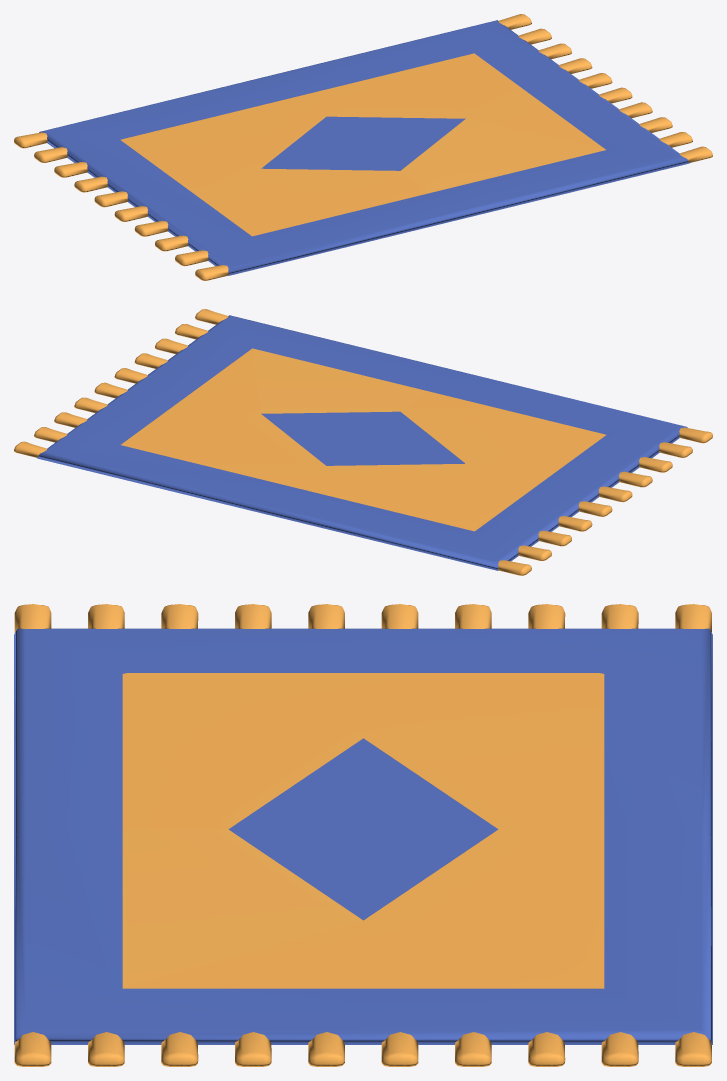
File: Carpet_06.glb
The picture shows the model from 3 angles, top to bottom: view 1: azimuth 30°, elevation 25°; view 2: azimuth 150°, elevation 25°; view 3: azimuth 270°, elevation 25°; orthographic projection. The views are drawn at different scales.
Visible parts, largest first — view 1: Carpet_06; view 2: Carpet_06; view 3: Carpet_06.
Boxes of the visible parts, x1,y1,x2,y2 form: Carpet_06: (14, 14, 712, 280); Carpet_06: (14, 309, 712, 575); Carpet_06: (14, 604, 712, 1066).
Size of the model in its own units: 2.77 by 0.0339 by 1.8.
Materials: 1 (1 with a texture image).
